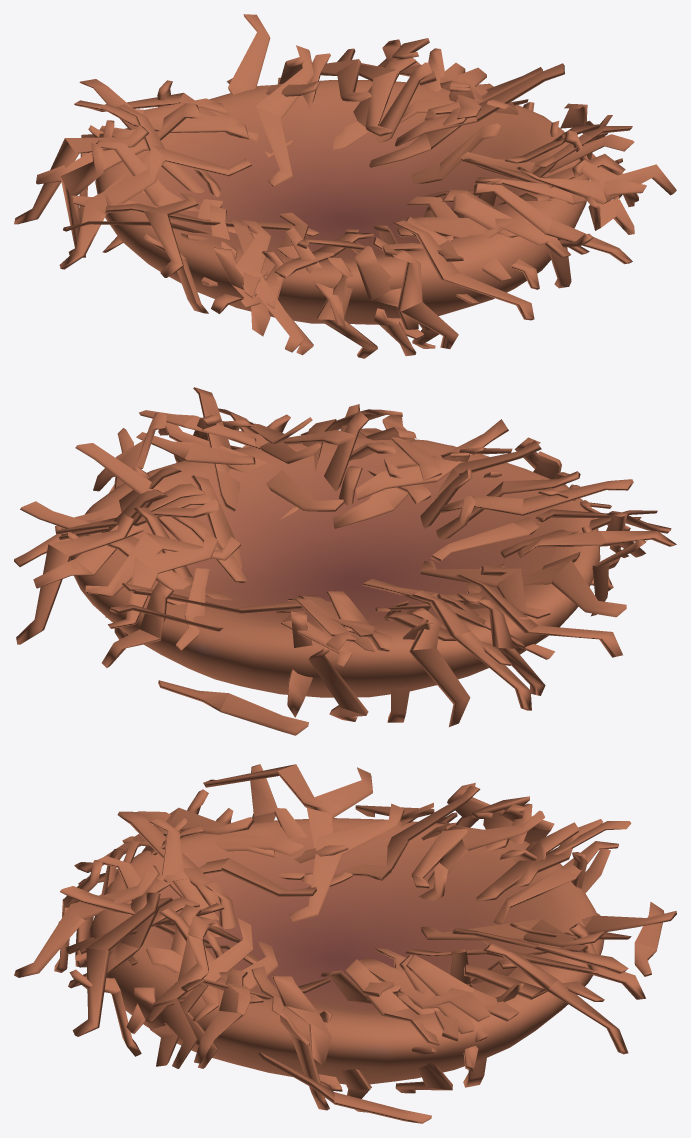
File: nest01.fbx
3 renders of one model, top to bottom at view 1: azimuth 30°, elevation 25°; view 2: azimuth 150°, elevation 25°; view 3: azimuth 270°, elevation 25°, orthographic. The views are drawn at different scales.
Parts seen in each view (by area): view 1: Cube; view 2: Cube; view 3: Cube.
Boxes of the visible parts, x1,y1,x2,y2 form: Cube: [14, 14, 676, 358]; Cube: [14, 387, 676, 735]; Cube: [14, 764, 676, 1123].
Bounding box in the file's own units: 293 × 79.06 × 290.
